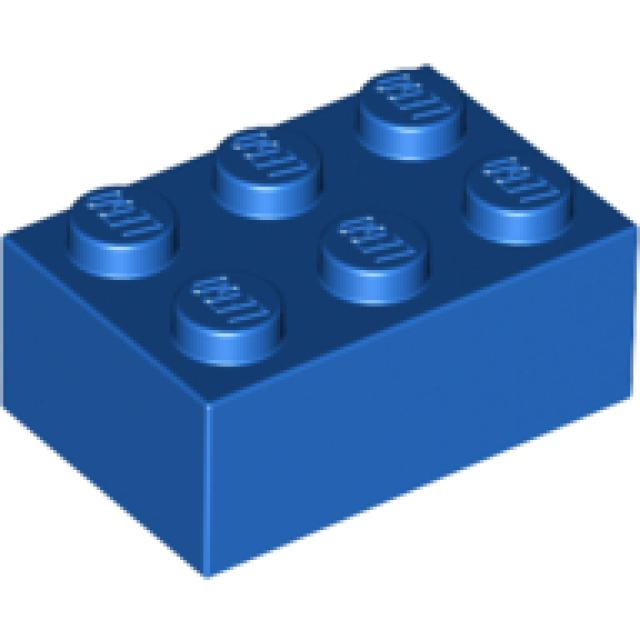Blue_Medium: (3, 63, 637, 580)
